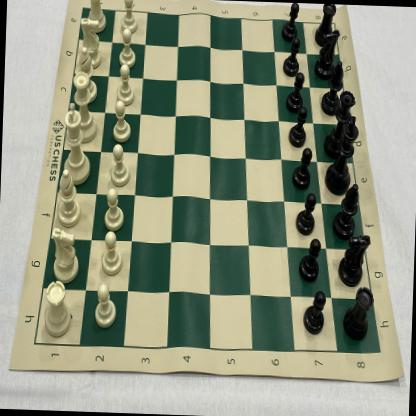bishop: (332, 182, 360, 239), (56, 168, 82, 227), (74, 46, 99, 104), (321, 61, 346, 116)
king: (324, 115, 360, 196), (60, 103, 92, 185)
knight: (338, 232, 372, 286), (50, 226, 80, 284), (78, 16, 104, 68), (314, 29, 340, 79)
pawn: (96, 232, 125, 276), (92, 284, 118, 330), (302, 290, 327, 336), (101, 188, 126, 232), (108, 144, 132, 188), (299, 238, 322, 283), (110, 101, 134, 144), (296, 190, 318, 236), (290, 148, 314, 190), (289, 106, 309, 149), (116, 65, 136, 106), (118, 29, 139, 68), (119, 0, 141, 37), (280, 2, 300, 42), (282, 35, 301, 77), (286, 71, 305, 113)
queen: (69, 69, 99, 144), (324, 90, 356, 158)
rook: (41, 277, 73, 338), (343, 286, 376, 342), (314, 4, 338, 46), (85, 0, 108, 34)
